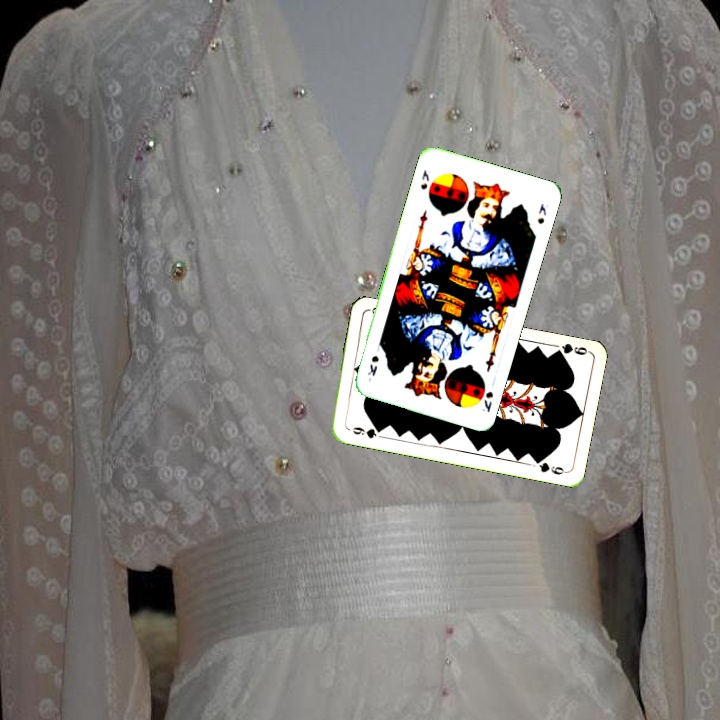G9: (550, 339, 591, 358), (343, 423, 384, 441)
SK: (478, 387, 496, 415), (416, 166, 432, 192)
